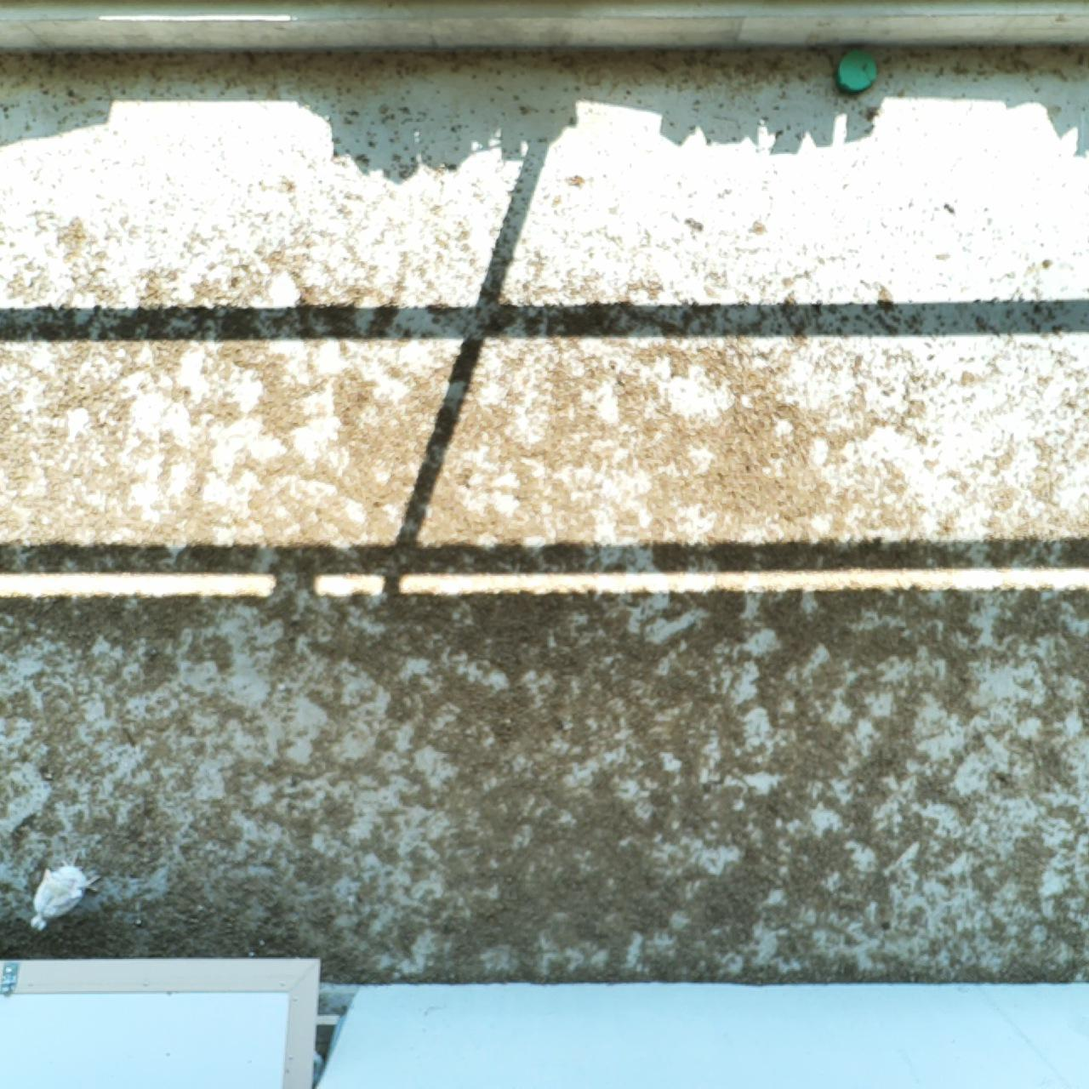chicken: (26, 859, 105, 937)
